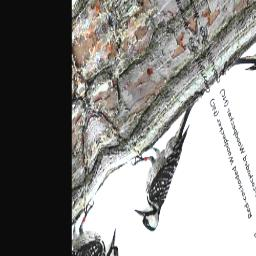Woodpecker: (120, 92, 222, 243)
